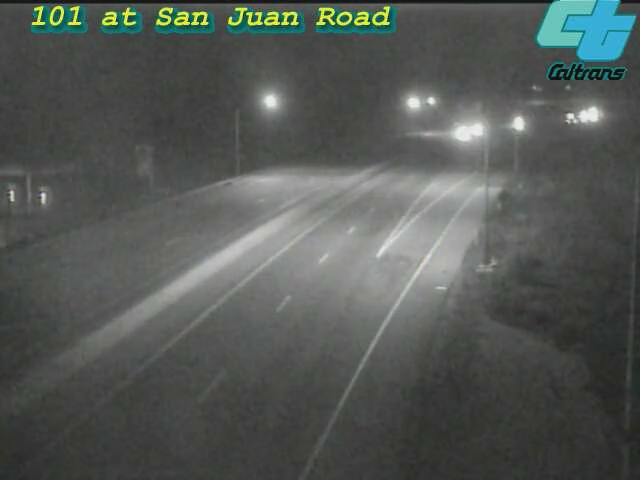vehicle: (546, 94, 596, 144), (440, 108, 490, 158), (493, 99, 543, 149), (454, 105, 504, 155), (564, 90, 614, 140)
